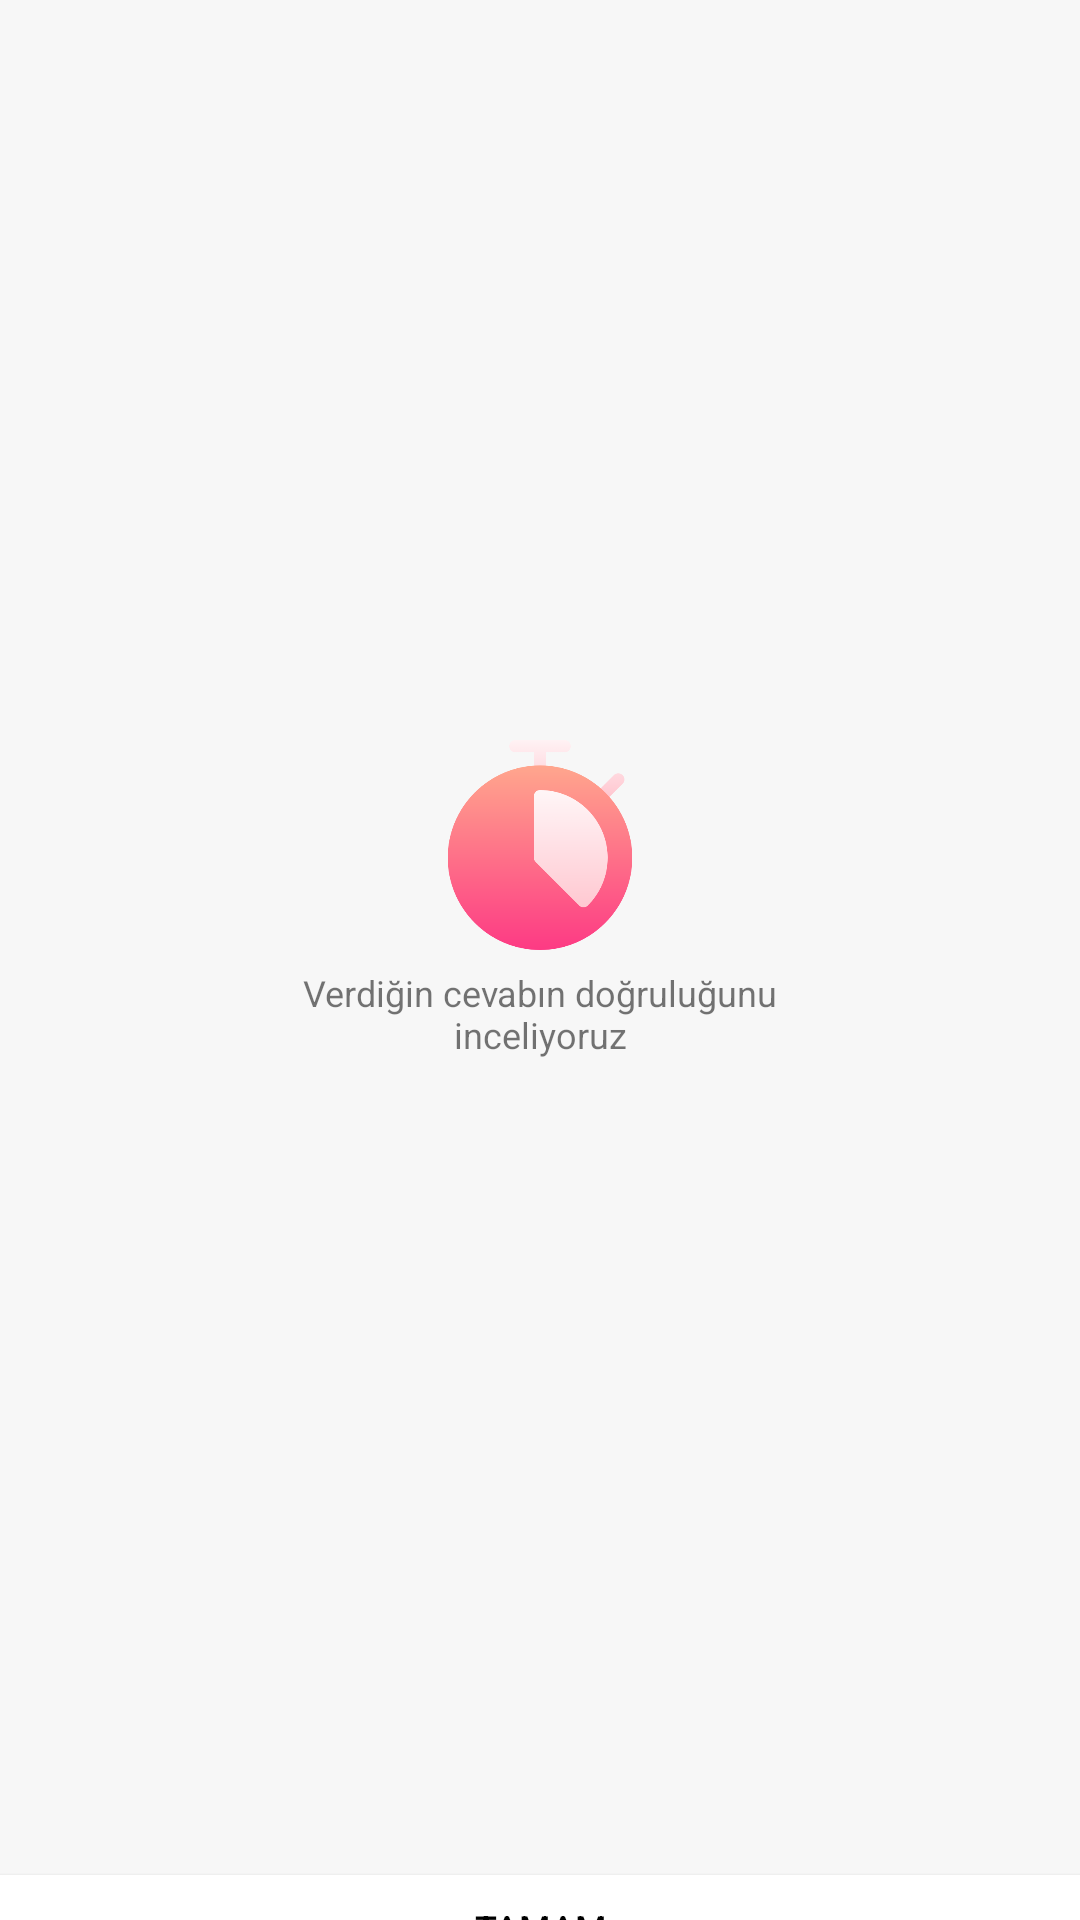

Screen size 1080×1920. Icon name, then its box in pixels as [x1=x1, y1=y1, x2=x2, y2=y2]:
timer: [x1=448, y1=765, x2=632, y2=950]
